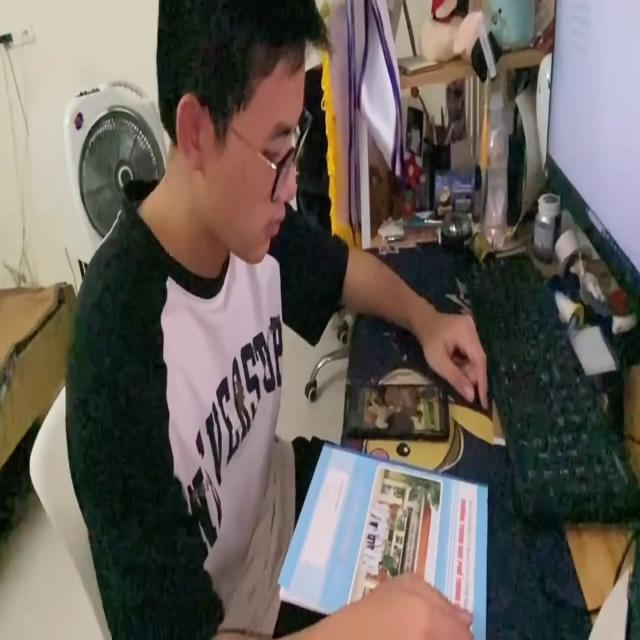book: (278, 437, 488, 640)
laptop: (544, 0, 640, 315)
phone: (345, 366, 449, 443)
student: (64, 0, 488, 640)
